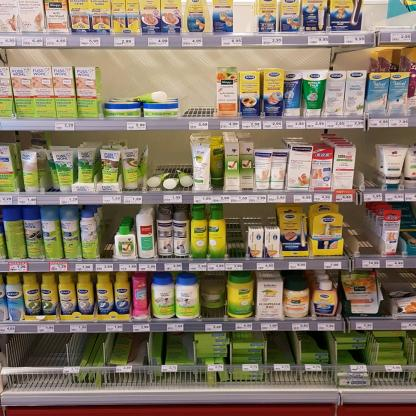empty_space: (3, 332, 80, 389), (345, 203, 381, 268), (356, 135, 384, 201), (185, 69, 213, 129), (226, 203, 246, 270), (366, 2, 392, 43), (233, 1, 254, 46)
